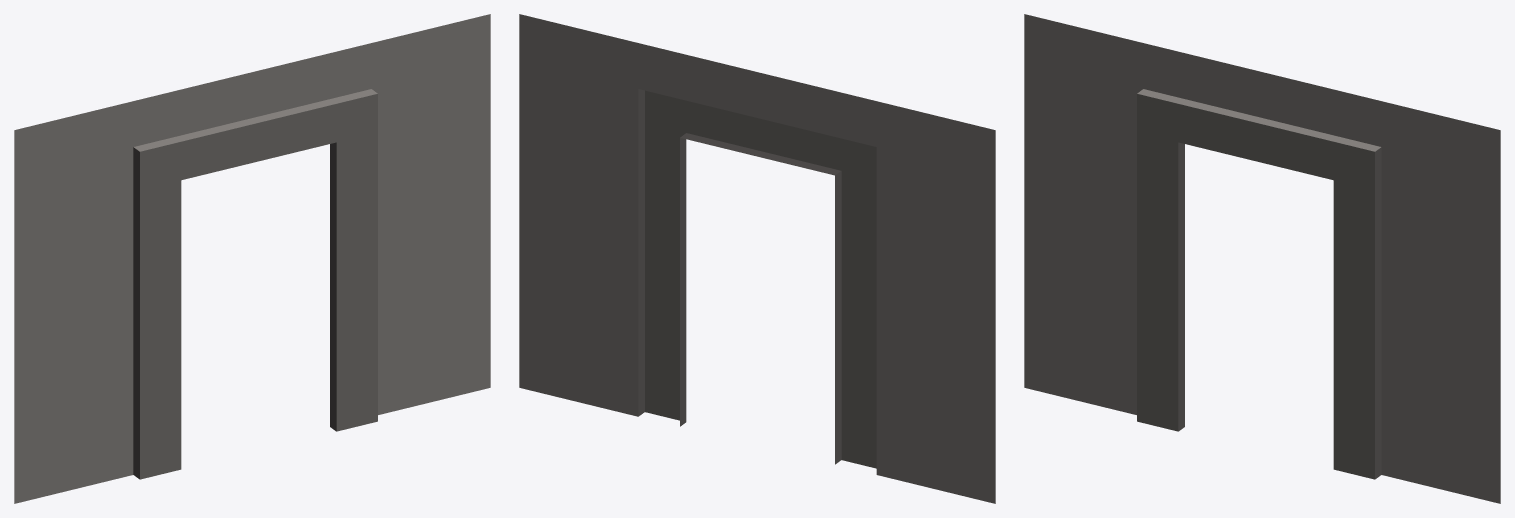
File: AI_Env_Sewer_Wall_Doorway.fbx
The picture shows the model from 3 angles, left to right: view 1: azimuth 30°, elevation 25°; view 2: azimuth 150°, elevation 25°; view 3: azimuth 330°, elevation 25°; orthographic projection.
Parts seen in each view (by area): view 1: AI_Env_Sewer_Wall_Doorway; view 2: AI_Env_Sewer_Wall_Doorway; view 3: AI_Env_Sewer_Wall_Doorway.
Boxes of the visible parts, bbox=[...] form: AI_Env_Sewer_Wall_Doorway: bbox=[14, 14, 490, 503]; AI_Env_Sewer_Wall_Doorway: bbox=[519, 14, 995, 503]; AI_Env_Sewer_Wall_Doorway: bbox=[1024, 14, 1500, 503].
Bounding box in the file's own units: 5 × 3.75 × 0.1175.
